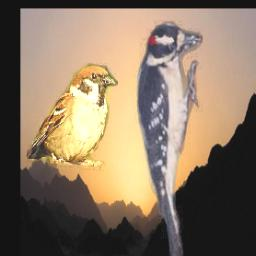Sparrow: (26, 63, 117, 171)
Woodpecker: (134, 18, 203, 256)
